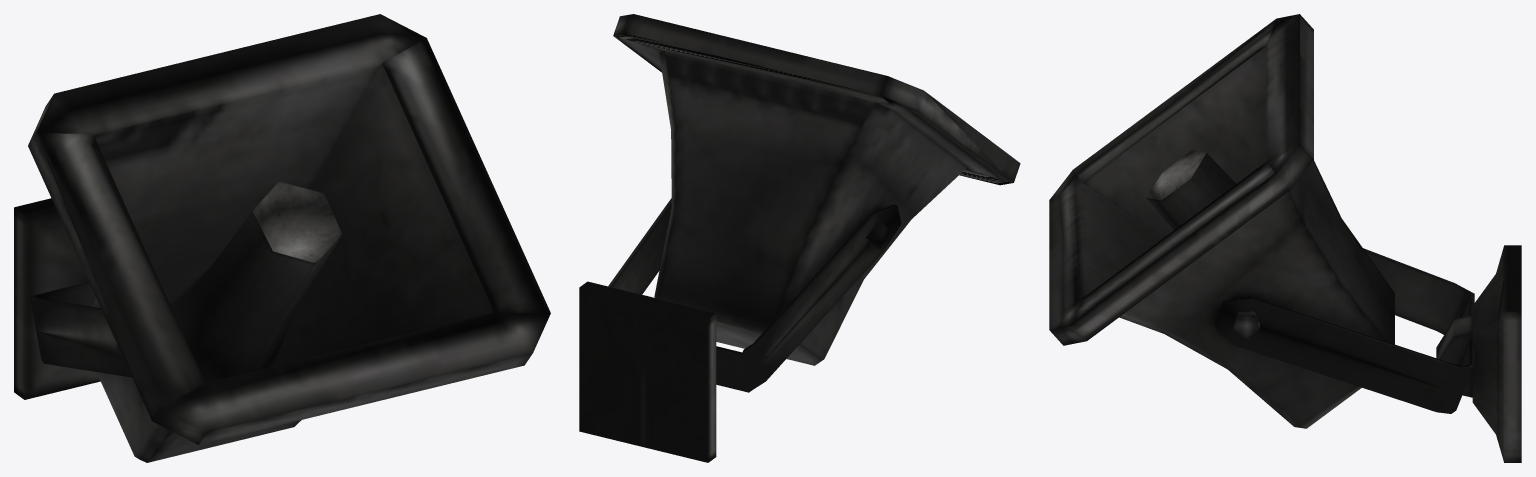
The model's file is p_glo_loudspeaker_a_lod1.glb.
3 renders of one model, left to right at view 1: azimuth 30°, elevation 25°; view 2: azimuth 150°, elevation 25°; view 3: azimuth 270°, elevation 25°, orthographic. The views are drawn at different scales.
Visible parts, largest first — view 1: surf0; view 2: surf0; view 3: surf0.
Part boxes in pixels (left/top/right/bottom): surf0: left=14, top=14, right=550, bottom=462; surf0: left=579, top=14, right=1020, bottom=462; surf0: left=1049, top=14, right=1521, bottom=462.
Bounding box in the file's own units: 18.36 × 18.92 × 23.47.
